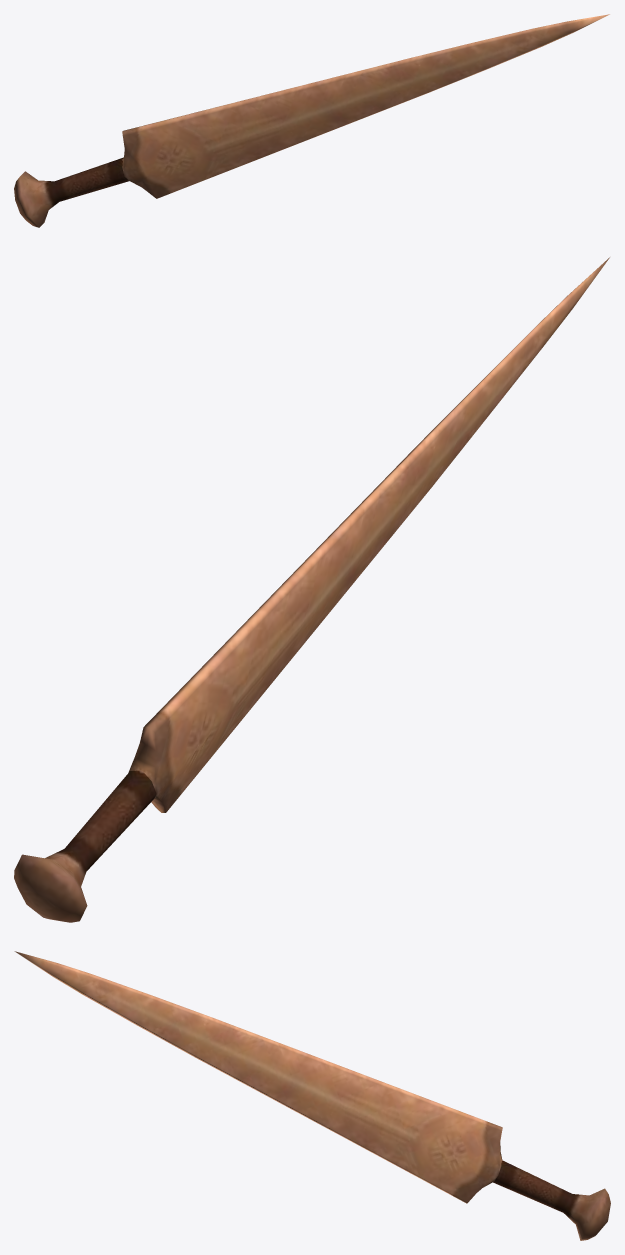
The model's file is weapon-ironweapons.glb.
The picture shows the model from 3 angles, top to bottom: view 1: azimuth 90°, elevation 25°; view 2: azimuth 150°, elevation 25°; view 3: azimuth 270°, elevation 25°; orthographic projection. The views are drawn at different scales.
Bounding box in the file's own units: 0.2073 × 0.4683 × 1.02.
1 material, 1 textured.
